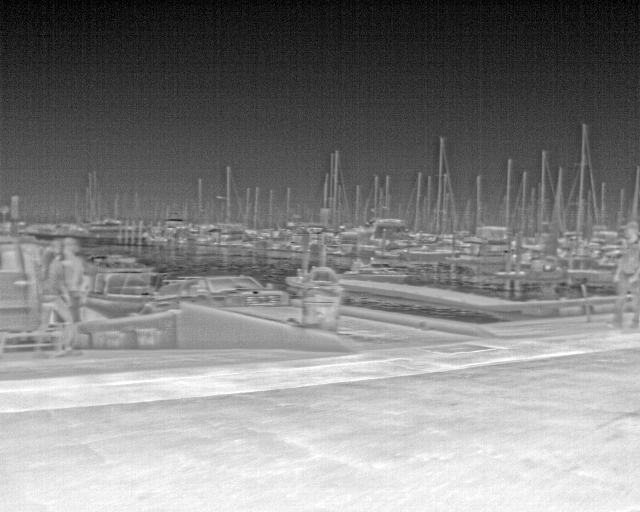bicycle: (156, 275, 288, 306)
empty: (36, 239, 75, 361), (609, 219, 638, 329), (65, 240, 89, 353)
